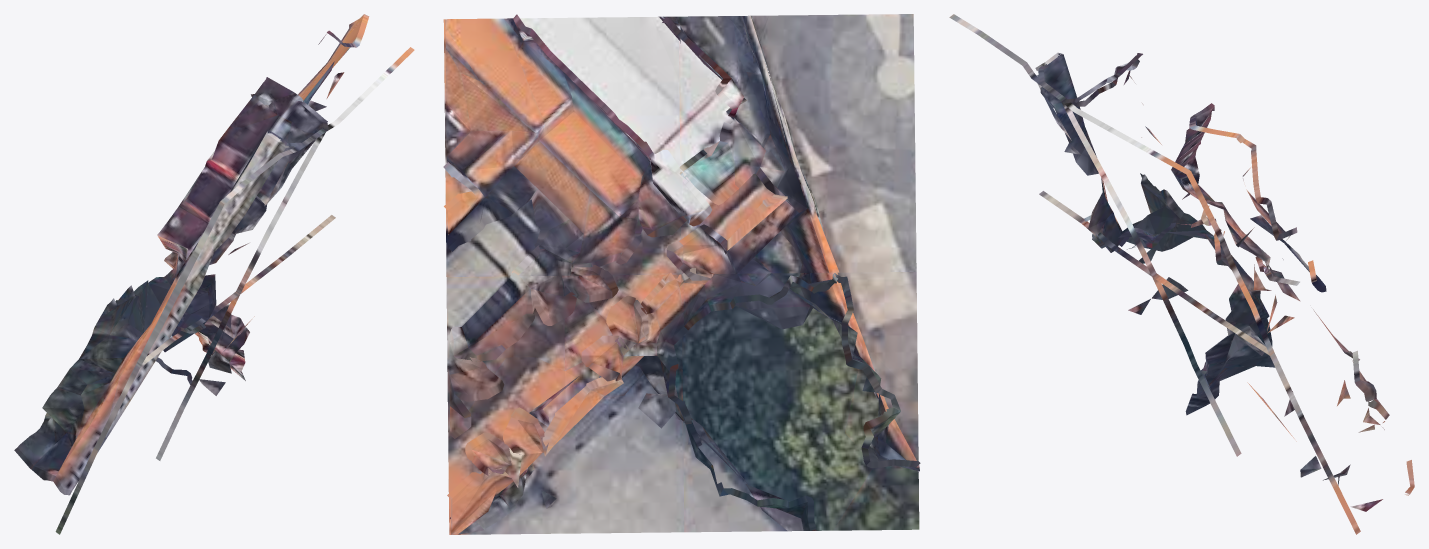
The picture shows the model from 3 angles, left to right: view 1: azimuth 30°, elevation 25°; view 2: azimuth 150°, elevation 25°; view 3: azimuth 270°, elevation 25°; orthographic projection. The views are drawn at different scales.
Size of the model in its own units: 39.98 by 37.77 by 36.24.
Materials: 2 (2 with a texture image).
